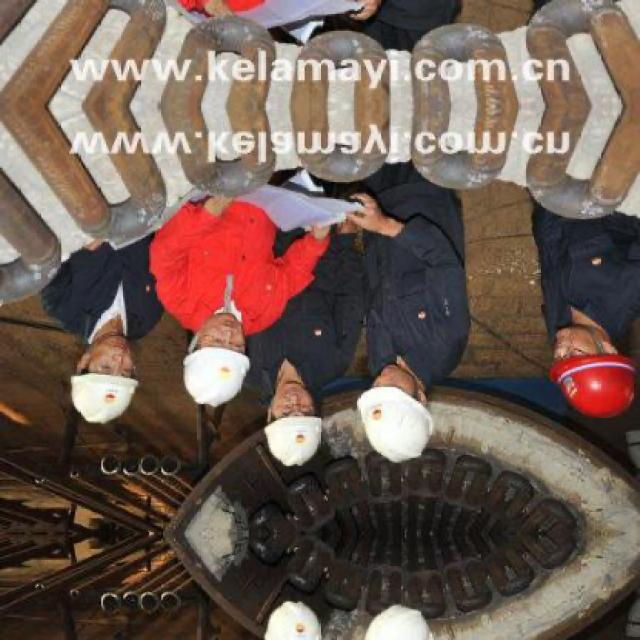con casco: (53, 290, 163, 433), (525, 286, 640, 418), (352, 325, 452, 475), (175, 268, 263, 402), (258, 357, 328, 468)
